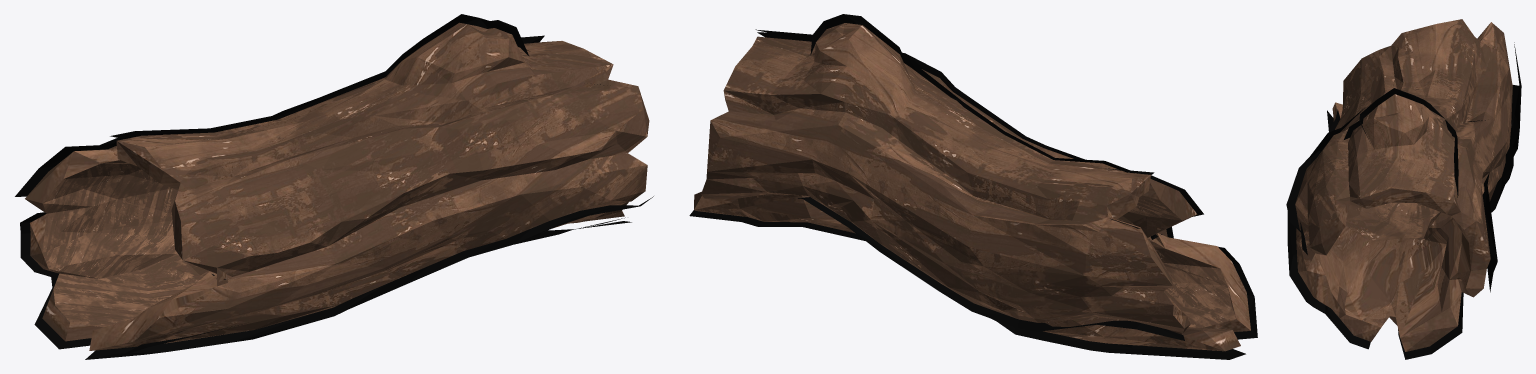
The model's file is entity146210n.gltf.
3 views of the same model, side by side, from view 1: azimuth 30°, elevation 25°; view 2: azimuth 150°, elevation 25°; view 3: azimuth 270°, elevation 25° (orthographic). The views are drawn at different scales.
Parts seen in each view (by area): view 1: node_Log_01; view 2: node_Log_01; view 3: node_Log_01.
Boxes of the visible parts, <box> form: node_Log_01: <box>15,14,653,359</box>; node_Log_01: <box>689,14,1257,359</box>; node_Log_01: <box>1286,19,1521,359</box>.
Size of what is drawn, in the model's own units: 3.27 by 1.46 by 1.33.
